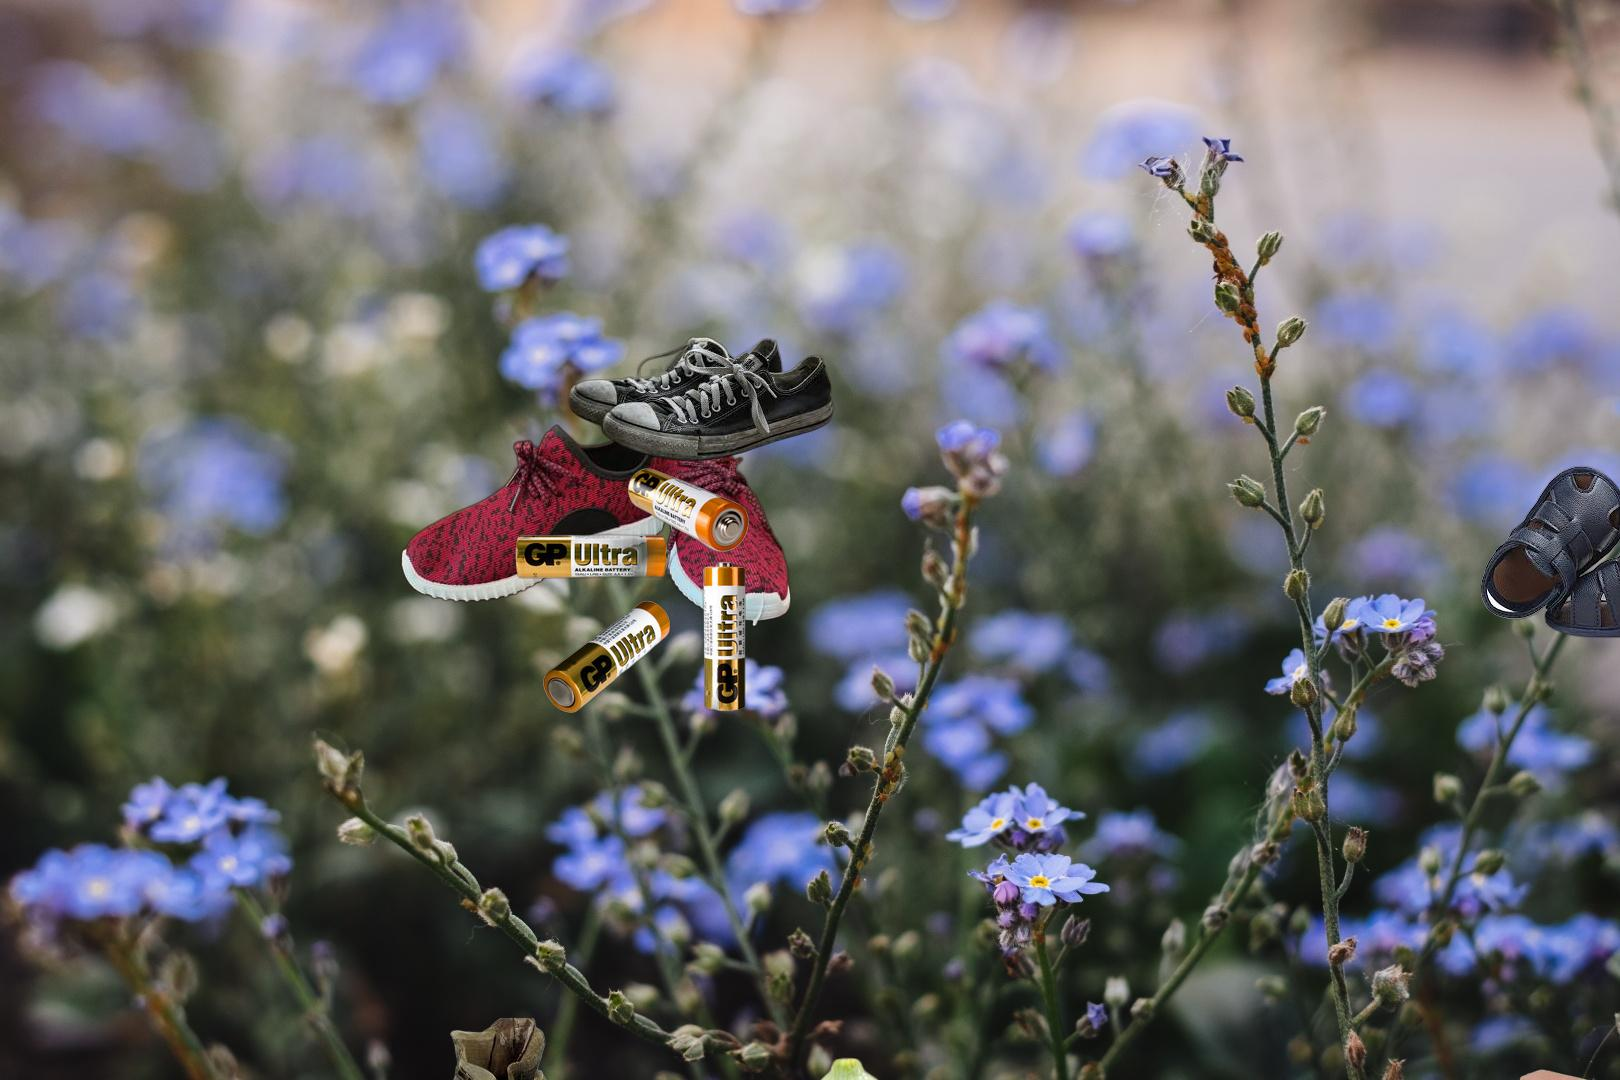battery: (513, 466, 752, 714)
biological: (791, 1053, 1009, 1080)
paper-bag: (1505, 1066, 1620, 1080)
shoes: (398, 411, 793, 630), (567, 334, 835, 464), (1478, 463, 1620, 641), (330, 1019, 574, 1080)
